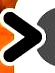menu_arrow: (1, 8, 47, 66)
